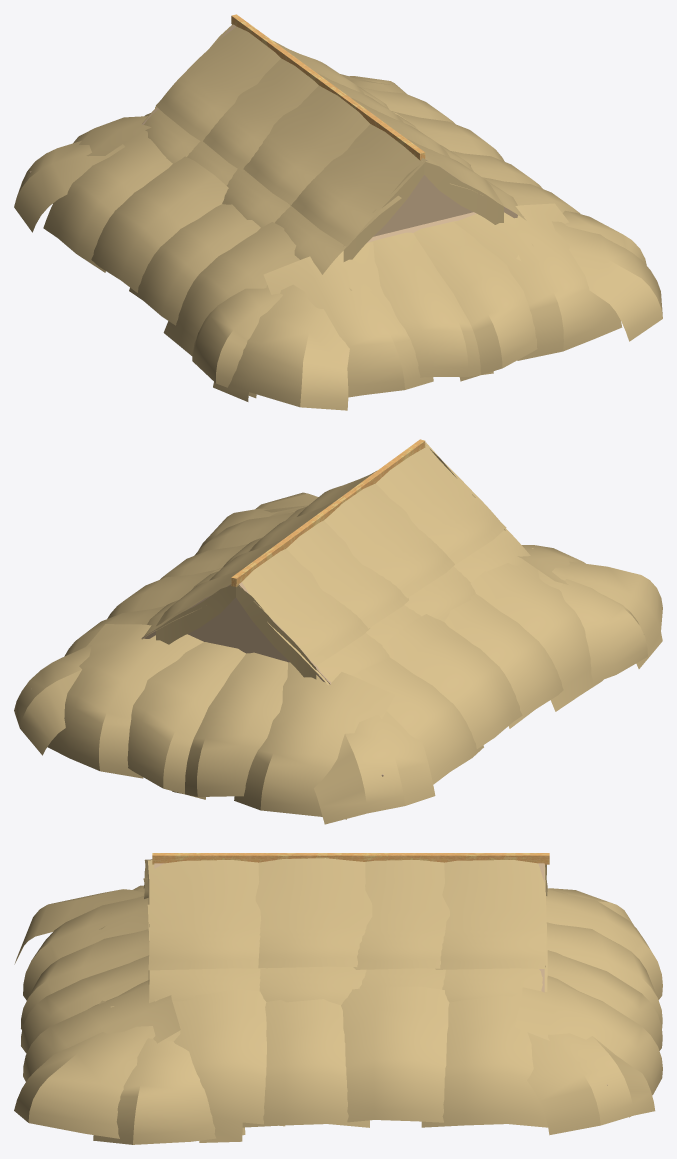
File: SM_roof_02.glb
3 views of the same model, one above another, from view 1: azimuth 30°, elevation 25°; view 2: azimuth 150°, elevation 25°; view 3: azimuth 270°, elevation 25° (orthographic). The views are drawn at different scales.
Visible parts, largest first — view 1: SM_roof_02; view 2: SM_roof_02; view 3: SM_roof_02.
Boxes of the visible parts, left/top/right/bottom form: SM_roof_02: left=14, top=14, right=662, bottom=410; SM_roof_02: left=14, top=439, right=662, bottom=824; SM_roof_02: left=14, top=853, right=662, bottom=1144.
Bounding box in the file's own units: 12.1 × 4.95 × 14.97.
Materials: 4 (2 with a texture image).
